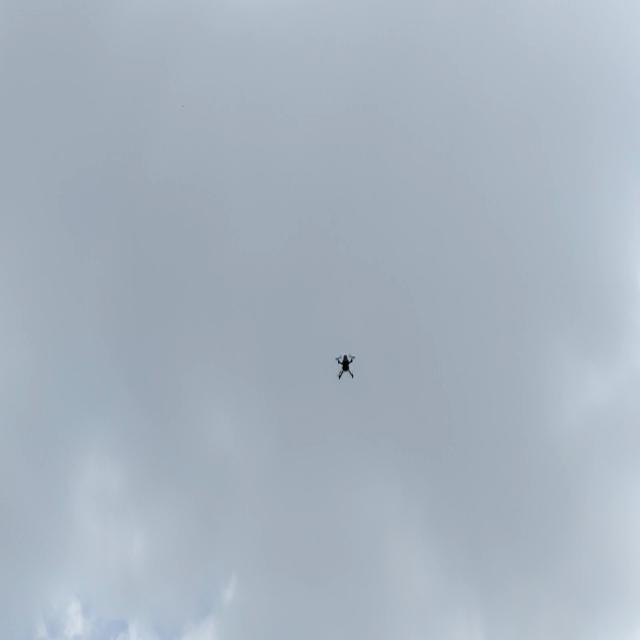drone: (329, 342, 363, 389)
